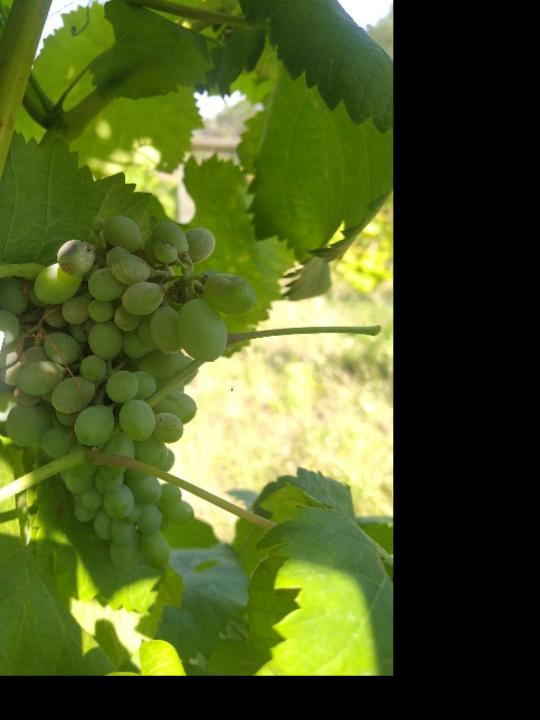grape: (0, 207, 263, 577)
